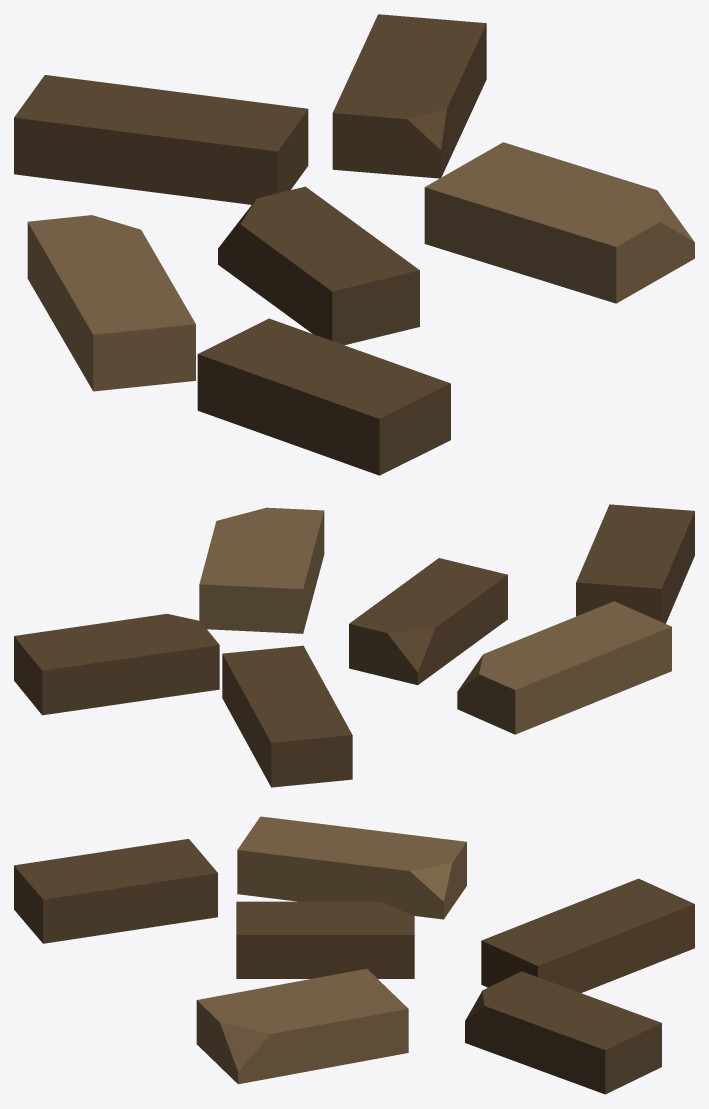
The model's file is BricksStack_1.fbx.
3 views of the same model, one above another, from view 1: azimuth 30°, elevation 25°; view 2: azimuth 150°, elevation 25°; view 3: azimuth 270°, elevation 25° (orthographic). The views are drawn at different scales.
Parts seen in each view (by area): view 1: BricksStack_1; view 2: BricksStack_1; view 3: BricksStack_1.
Boxes of the visible parts, x1,y1,x2,y2 form: BricksStack_1: (14, 14, 694, 475); BricksStack_1: (14, 504, 694, 787); BricksStack_1: (14, 816, 694, 1094).
Size of the model in its own units: 113 by 9.98 by 139.
